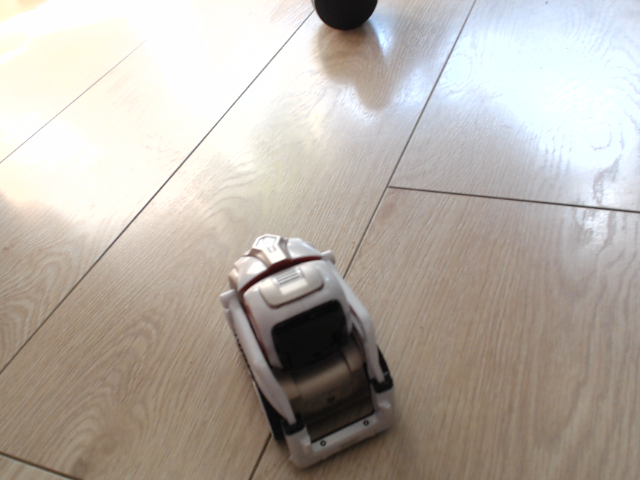cozmo: (217, 229, 399, 470)
